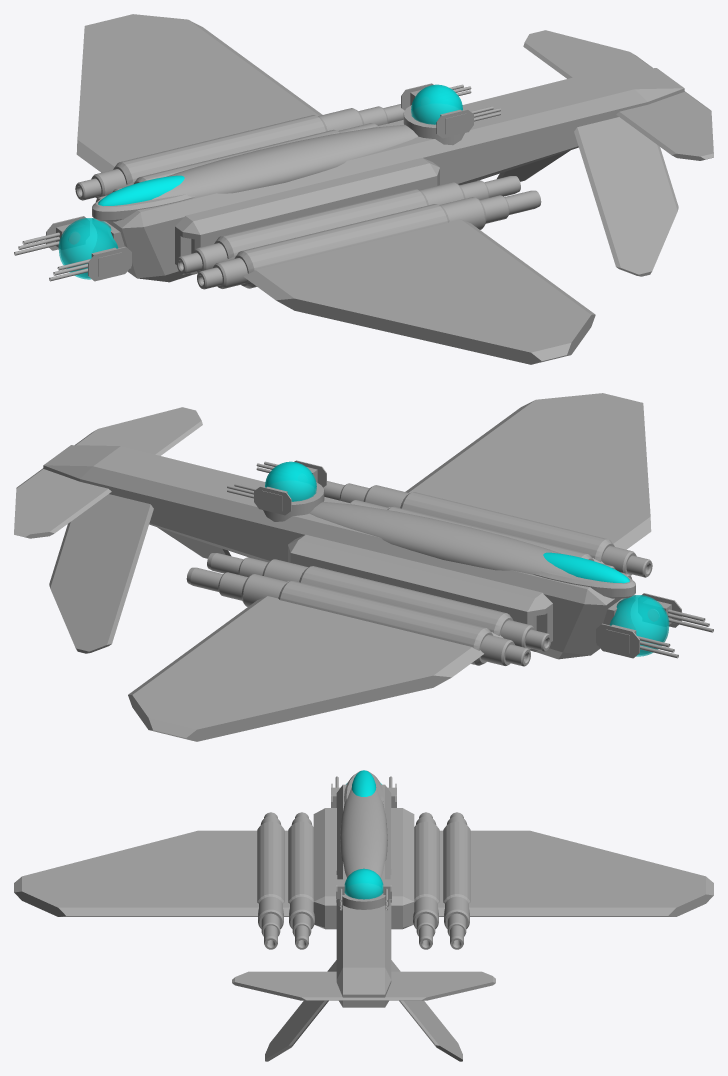
File: Bomber.fbx
3 views of the same model, one above another, from view 1: azimuth 30°, elevation 25°; view 2: azimuth 150°, elevation 25°; view 3: azimuth 270°, elevation 25° (orthographic). The views are drawn at different scales.
Visible parts, largest first — view 1: pCube11, pCube1, pCube27, pCube20, pSphere6, pCube12, pCylinder5, pCylinder3, pCylinder4, pSphere5, pSphere8, pSphere3 (+14 smaller); view 2: pCube11, pCube1, pCube28, pCube20, pSphere6, pCube12, pCylinder4, pCylinder2, pCylinder5, pSphere5, pSphere8, pSphere3 (+14 smaller); view 3: pCube11, pCube1, pCube20, pCube12, pSphere6, pCylinder4, pCylinder5, pCylinder2, pCylinder3, pCube27, pCube28, pSphere8 (+6 smaller).
Part boxes in pixels (x1,y1,x2,y2): pCube11: (76,14,595,364); pCube1: (106,68,684,282); pCube27: (574,117,678,276); pCube20: (175,158,439,274); pSphere6: (152,124,417,199); pCube12: (523,30,713,160); pCylinder5: (234,204,449,288); pCylinder3: (214,189,428,258); pCylinder4: (113,115,327,184); pSphere5: (58,218,118,279); pSphere8: (411,84,462,124); pSphere3: (98,175,184,206); pCube11: (128,393,651,741); pCube1: (43,445,621,659); pCube28: (49,494,153,653); pCube20: (288,535,552,651); pSphere6: (310,501,575,576); pCube12: (14,407,202,538); pCylinder4: (278,581,493,665); pCylinder2: (299,566,513,635); pCylinder5: (400,492,614,561); pSphere5: (609,595,669,656); pSphere8: (265,461,316,501); pSphere3: (543,552,629,583); pCube11: (14,830,713,916); pCube1: (336,784,391,1007); pCube20: (313,808,414,929); pCube12: (232,971,495,1000); pSphere6: (340,788,387,877); pCylinder4: (443,821,470,903); pCylinder5: (257,821,284,903); pCylinder2: (414,821,439,903); pCylinder3: (288,821,313,903); pCube27: (265,960,336,1061); pCube28: (391,960,462,1061); pSphere8: (344,868,383,899).
Size of the model in its own units: 54.88 by 14.44 by 67.71.
